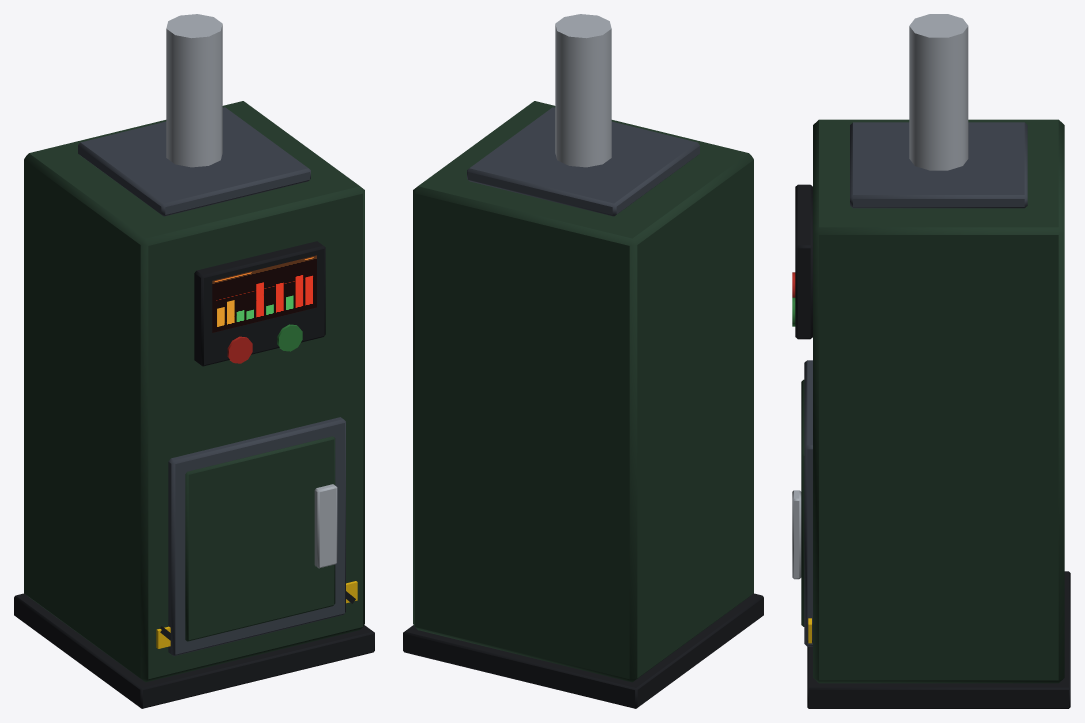
File: storagebin_trash_compactor.glb
The picture shows the model from 3 angles, left to right: view 1: azimuth 30°, elevation 25°; view 2: azimuth 150°, elevation 25°; view 3: azimuth 270°, elevation 25°; orthographic projection. The views are drawn at different scales.
Parts seen in each view (by area): view 1: storagebin_trash_compactor; view 2: storagebin_trash_compactor; view 3: storagebin_trash_compactor.
Part boxes in pixels (box(x1,y1,x2,y2)): storagebin_trash_compactor: box(14, 14, 374, 708); storagebin_trash_compactor: box(403, 14, 763, 708); storagebin_trash_compactor: box(792, 14, 1070, 708).
Bounding box in the file's own units: 0.94 × 2.33 × 0.94.
Materials: 8 (1 with a texture image).
